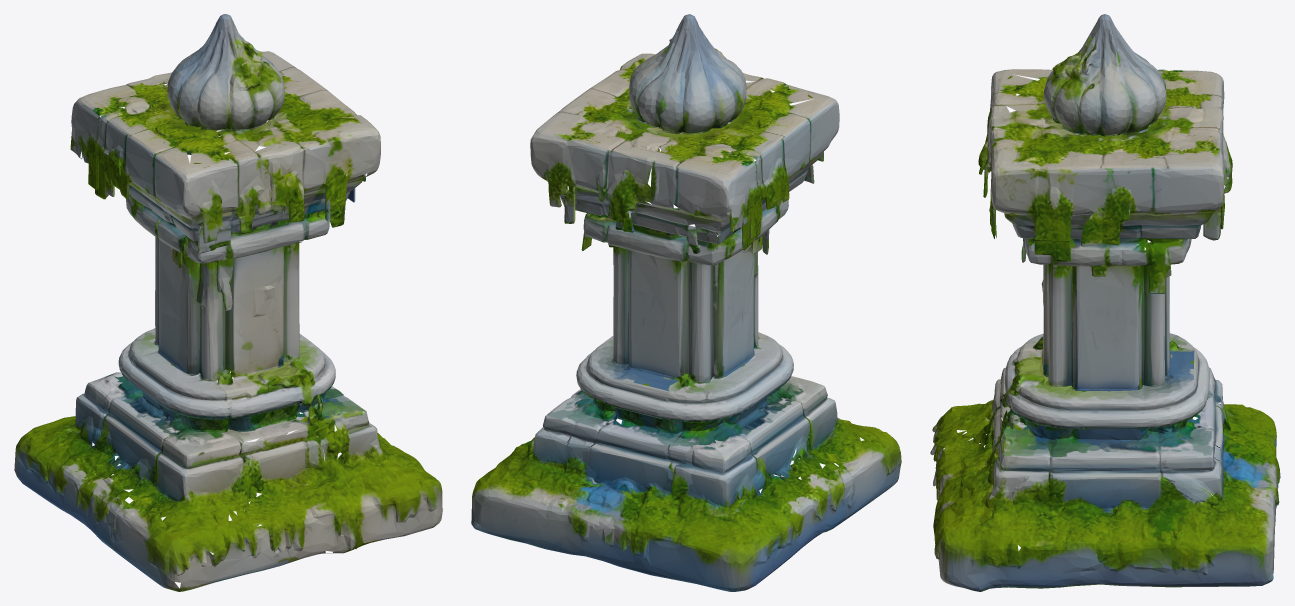
File: moss-covered-pillar-capital-optimized.glb
The picture shows the model from 3 angles, left to right: view 1: azimuth 30°, elevation 25°; view 2: azimuth 150°, elevation 25°; view 3: azimuth 270°, elevation 25°; orthographic projection. The views are drawn at different scales.
Visible parts, largest first — view 1: 25a1725c-fa4e-4b30-9ea6-2c4f91ec985d_texturing.obj; view 2: 25a1725c-fa4e-4b30-9ea6-2c4f91ec985d_texturing.obj; view 3: 25a1725c-fa4e-4b30-9ea6-2c4f91ec985d_texturing.obj.
Part boxes in pixels (bbox=[...]): 25a1725c-fa4e-4b30-9ea6-2c4f91ec985d_texturing.obj: bbox=[14, 14, 442, 591]; 25a1725c-fa4e-4b30-9ea6-2c4f91ec985d_texturing.obj: bbox=[471, 14, 901, 591]; 25a1725c-fa4e-4b30-9ea6-2c4f91ec985d_texturing.obj: bbox=[930, 14, 1280, 591].
Size of the model in its own units: 1.1 by 1.8 by 1.12.
Materials: 1 (1 with a texture image).
